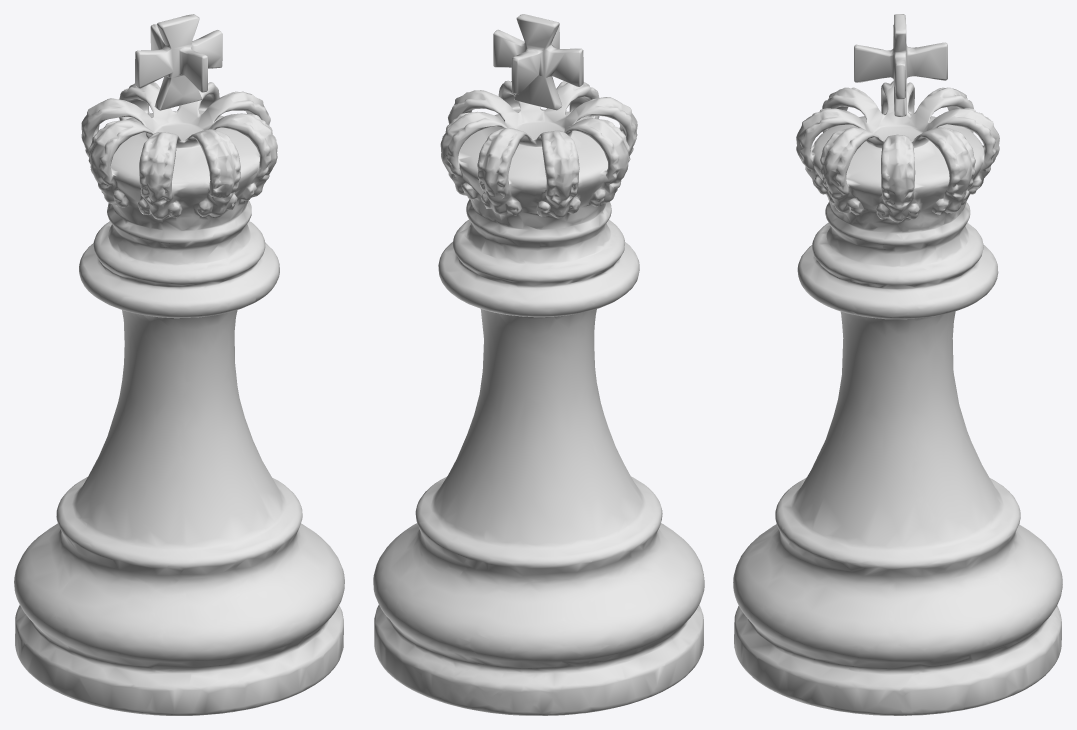
Rendered from king_med.glb.
The picture shows the model from 3 angles, left to right: view 1: azimuth 30°, elevation 25°; view 2: azimuth 150°, elevation 25°; view 3: azimuth 270°, elevation 25°; orthographic projection.
Parts seen in each view (by area): view 1: world; view 2: world; view 3: world.
Boxes of the visible parts, box(x1,y1,x2,y2) form: world: box(14, 14, 344, 715); world: box(373, 14, 704, 715); world: box(733, 14, 1062, 715).
Size of the model in its own units: 0.4768 by 1 by 0.477.
1 material, 1 textured.
